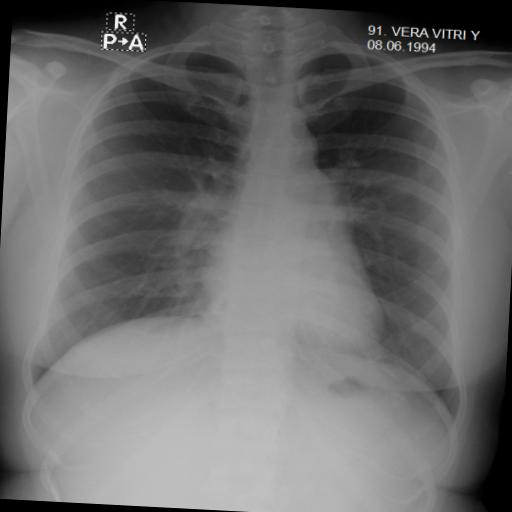normal: (17, 11, 486, 436)
